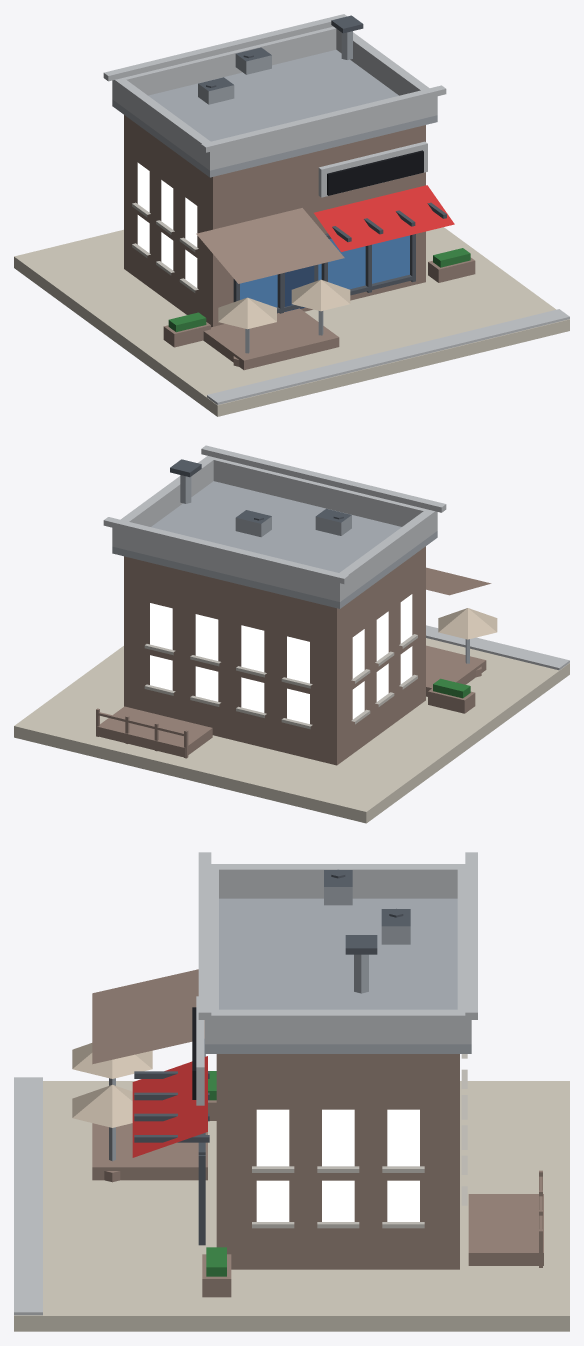
3 renders of one model, top to bottom at view 1: azimuth 30°, elevation 25°; view 2: azimuth 150°, elevation 25°; view 3: azimuth 270°, elevation 25°, orthographic. The views are drawn at different scales.
Parts seen in each view (by area): view 1: b14_v2; view 2: b14_v2; view 3: b14_v2.
Boxes of the visible parts, x1,y1,x2,y2 form: b14_v2: (14, 14, 569, 416); b14_v2: (14, 445, 569, 823); b14_v2: (14, 852, 569, 1331).
Bounding box in the file's own units: 0.96 × 0.622 × 0.96.
